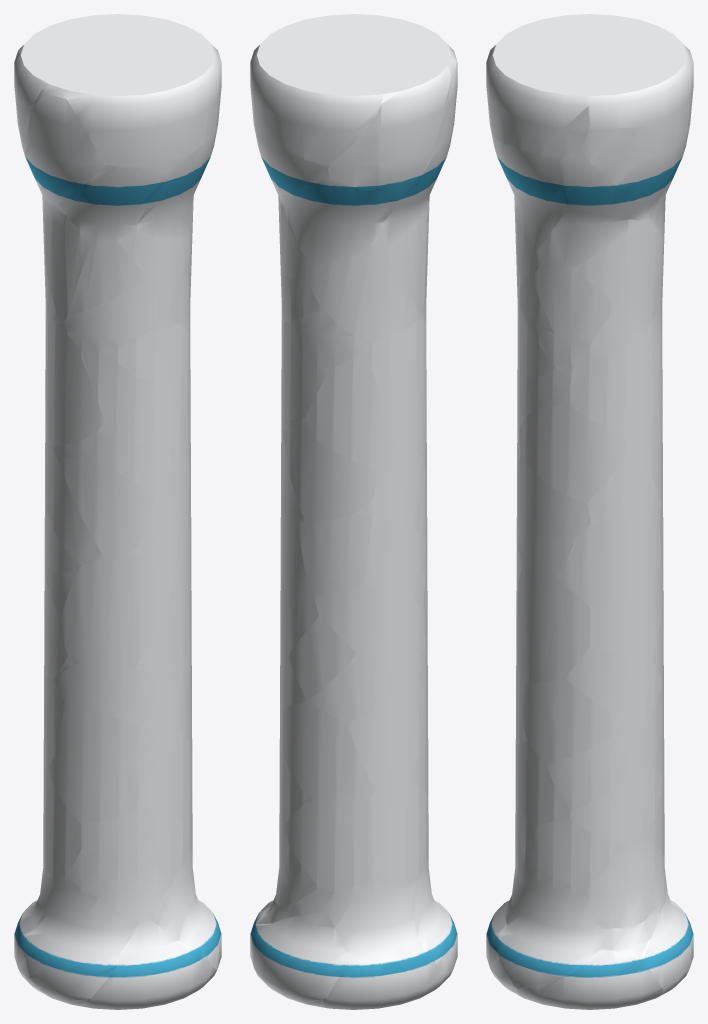
The model's file is PillarChunks.fbx.
The picture shows the model from 3 angles, left to right: view 1: azimuth 30°, elevation 25°; view 2: azimuth 150°, elevation 25°; view 3: azimuth 270°, elevation 25°; orthographic projection.
Visible parts, largest first — view 1: Pillar_Chunk_06_44, Pillar_Chunk_01_39, Pillar_Chunk_06_48, Pillar_Chunk_03_51, Pillar_Chunk_07_66, Pillar_Chunk_06_61, Pillar_Chunk_09_13, Pillar_Chunk_10_23, Pillar_Chunk_08_43, Pillar_Chunk_08_52, Pillar_Chunk_03_69, Pillar_Chunk_08_01 (+31 smaller); view 2: Pillar_Chunk_06_49, Pillar_Chunk_06_75, Pillar_Chunk_01_58, Pillar_Chunk_08_57, Pillar_Chunk_04_17, Pillar_Chunk_06_44, Pillar_Chunk_04_16, Pillar_Chunk_09_71, Pillar_Chunk_03_78, Pillar_Chunk_01_03, Pillar_Chunk_09_36, Pillar_Chunk_10_28 (+28 smaller); view 3: Pillar_Chunk_06_44, Pillar_Chunk_06_49, Pillar_Chunk_07_31, Pillar_Chunk_10_38, Pillar_Chunk_05_35, Pillar_Chunk_02_73, Pillar_Chunk_10_45, Pillar_Chunk_01_68, Pillar_Chunk_03_65, Pillar_Chunk_09_60, Pillar_Chunk_07_64, Pillar_Chunk_07_77 (+29 smaller).
Part boxes in pixels (x1=…): Pillar_Chunk_06_44: x1=59, y1=35, x2=221, y2=172; Pillar_Chunk_01_39: x1=61, y1=556, x2=176, y2=669; Pillar_Chunk_06_48: x1=22, y1=875, x2=138, y2=1005; Pillar_Chunk_03_51: x1=76, y1=919, x2=216, y2=1009; Pillar_Chunk_07_66: x1=25, y1=83, x2=105, y2=203; Pillar_Chunk_06_61: x1=59, y1=458, x2=153, y2=557; Pillar_Chunk_09_13: x1=55, y1=662, x2=178, y2=735; Pillar_Chunk_10_23: x1=67, y1=848, x2=182, y2=922; Pillar_Chunk_08_43: x1=45, y1=312, x2=105, y2=446; Pillar_Chunk_08_52: x1=55, y1=164, x2=164, y2=240; Pillar_Chunk_03_69: x1=78, y1=345, x2=190, y2=426; Pillar_Chunk_08_01: x1=61, y1=279, x2=174, y2=352; Pillar_Chunk_06_49: x1=250, y1=33, x2=383, y2=168; Pillar_Chunk_06_75: x1=375, y1=62, x2=451, y2=206; Pillar_Chunk_01_58: x1=306, y1=249, x2=420, y2=345; Pillar_Chunk_08_57: x1=306, y1=352, x2=400, y2=472; Pillar_Chunk_04_17: x1=251, y1=910, x2=348, y2=1006; Pillar_Chunk_06_44: x1=272, y1=14, x2=456, y2=70; Pillar_Chunk_04_16: x1=280, y1=177, x2=396, y2=262; Pillar_Chunk_09_71: x1=326, y1=880, x2=428, y2=962; Pillar_Chunk_03_78: x1=282, y1=796, x2=367, y2=893; Pillar_Chunk_01_03: x1=282, y1=702, x2=367, y2=800; Pillar_Chunk_09_36: x1=283, y1=429, x2=385, y2=521; Pillar_Chunk_10_28: x1=367, y1=779, x2=428, y2=882; Pillar_Chunk_06_44: x1=486, y1=18, x2=609, y2=158; Pillar_Chunk_06_49: x1=587, y1=24, x2=693, y2=128; Pillar_Chunk_07_31: x1=497, y1=859, x2=603, y2=988; Pillar_Chunk_10_38: x1=519, y1=403, x2=632, y2=503; Pillar_Chunk_05_35: x1=516, y1=564, x2=590, y2=682; Pillar_Chunk_02_73: x1=558, y1=515, x2=661, y2=606; Pillar_Chunk_10_45: x1=580, y1=121, x2=690, y2=204; Pillar_Chunk_01_68: x1=520, y1=678, x2=628, y2=762; Pillar_Chunk_03_65: x1=566, y1=340, x2=662, y2=438; Pillar_Chunk_09_60: x1=516, y1=947, x2=663, y2=1009; Pillar_Chunk_07_64: x1=586, y1=840, x2=664, y2=929; Pillar_Chunk_07_77: x1=564, y1=646, x2=662, y2=724.
Size of the model in its own units: 0.82 by 4 by 0.82.
